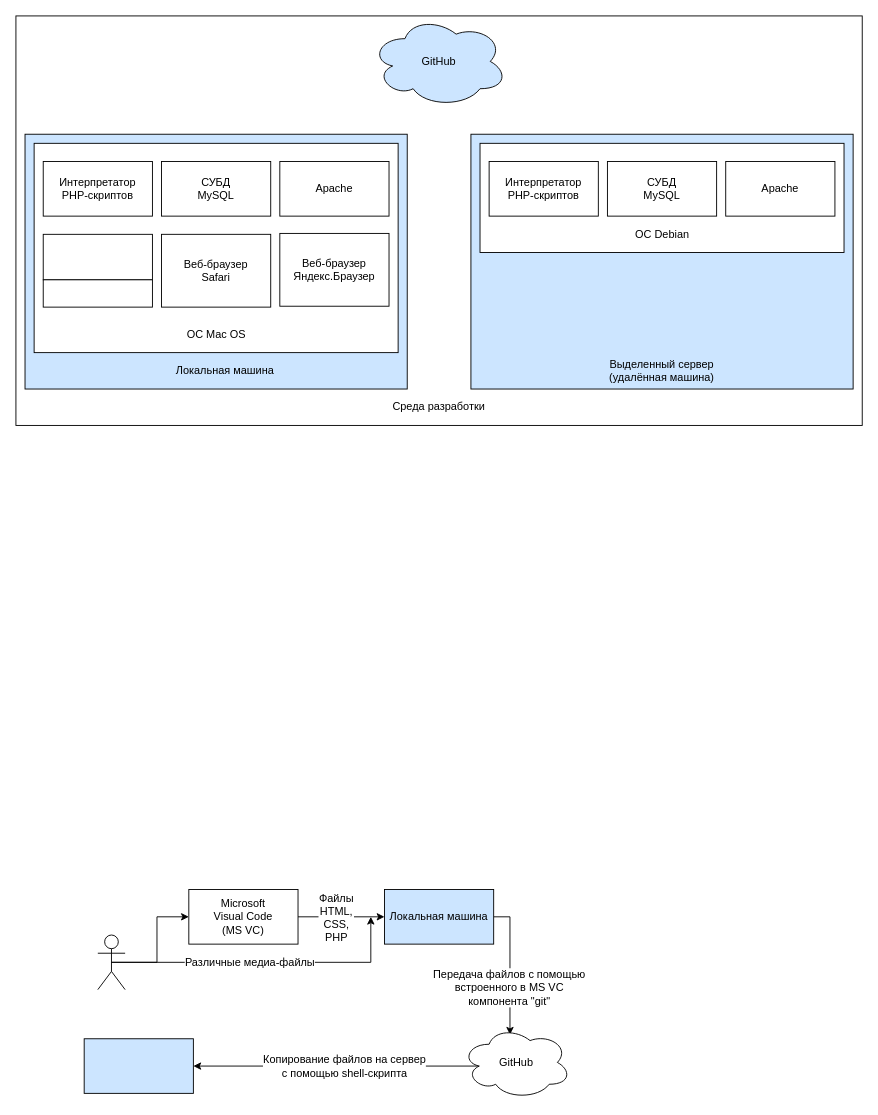
This 878x1115 diagram has some shape labels left out. The centre of each missing label's shape, as x and y in pixels:
"git" goes at point 97,293.
"MS Visual Code" goes at point 97,256.
"Разработчик" goes at point 111,962.
"Удалённая машина" goes at point 138,1065.
